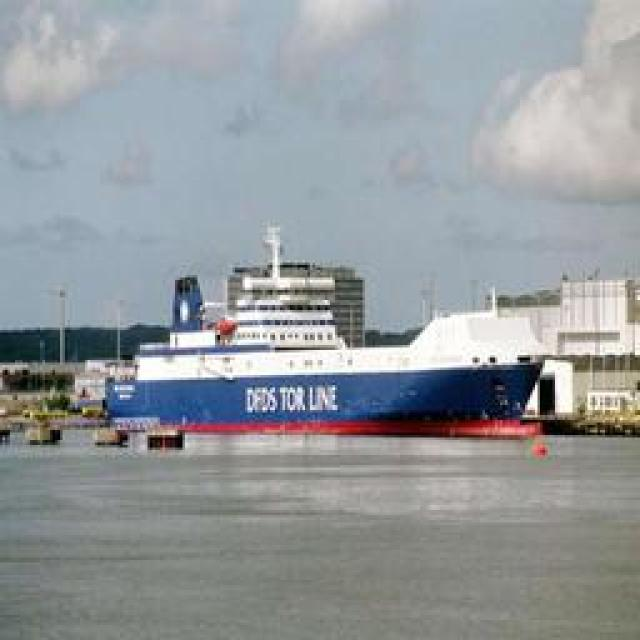ship: (101, 241, 561, 441)
